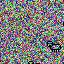sheep: (47, 41, 62, 53)
